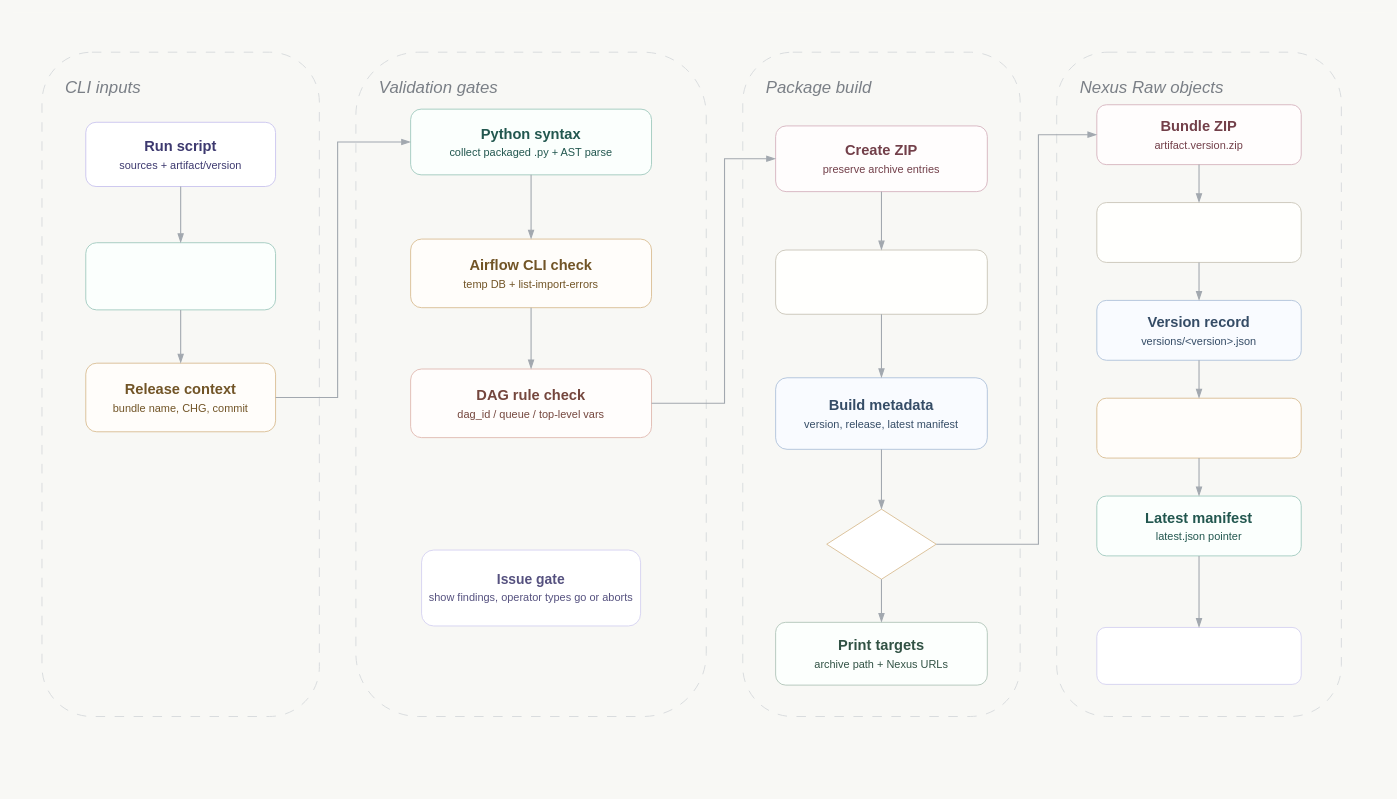
This 1397x799 diagram has some shape labels left out. The centre of each missing label's shape, as x and y in pixels:
Checksum sidecar .zip.sha256: pixel 1198 232
Compute SHA256 write .zip.sha256 sidecar: pixel 881 281
dry-run?: pixel 881 543
Release record releases/<time>.json: pixel 1198 427
Resolve config environment + credentials: pixel 180 276
Runtime pointer Airflow reads manifest later: pixel 1198 655
